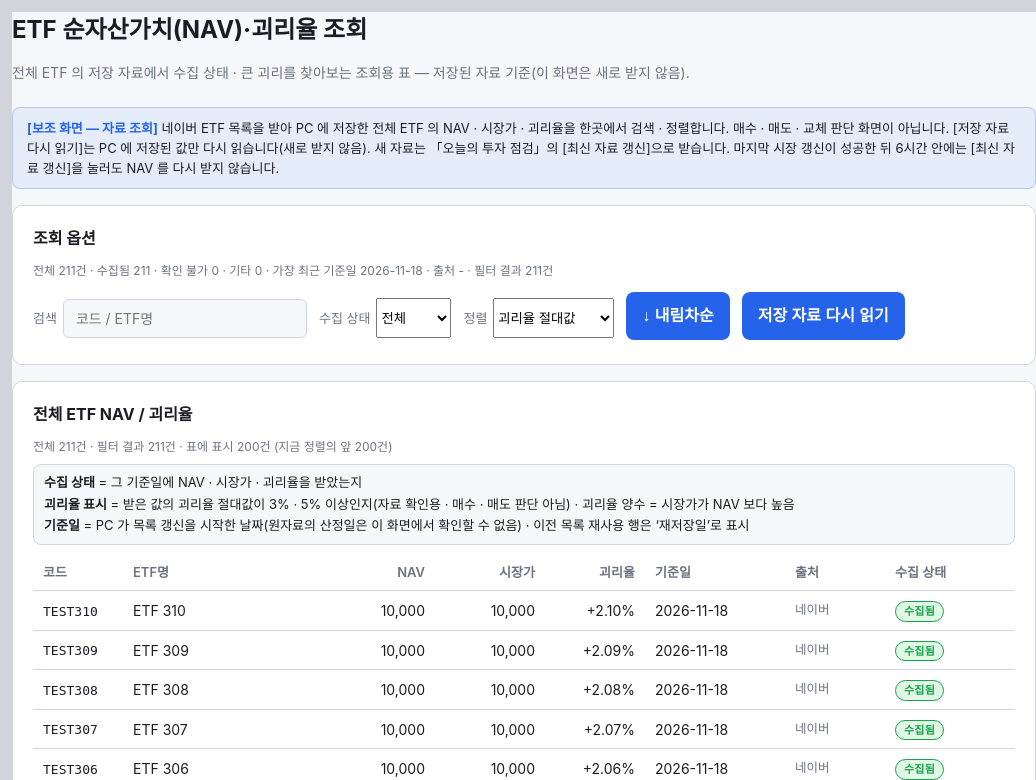
Test: POC6-34 — 저장 자료 다시 읽기 · 새 자료 경로 · 표시 범위 › 검색으로 좁힘 → 표에 표시 = 필터 결과 · 앞 200건 문구 · 표 아래 안내 없음 · 전체는 응답 건수 그대로
The image size is (1036, 780).
Type "TEST10" into the field with placeholder "코드 / ETF명".
click(185, 318); type("TEST10")  # box [63,299,307,338]
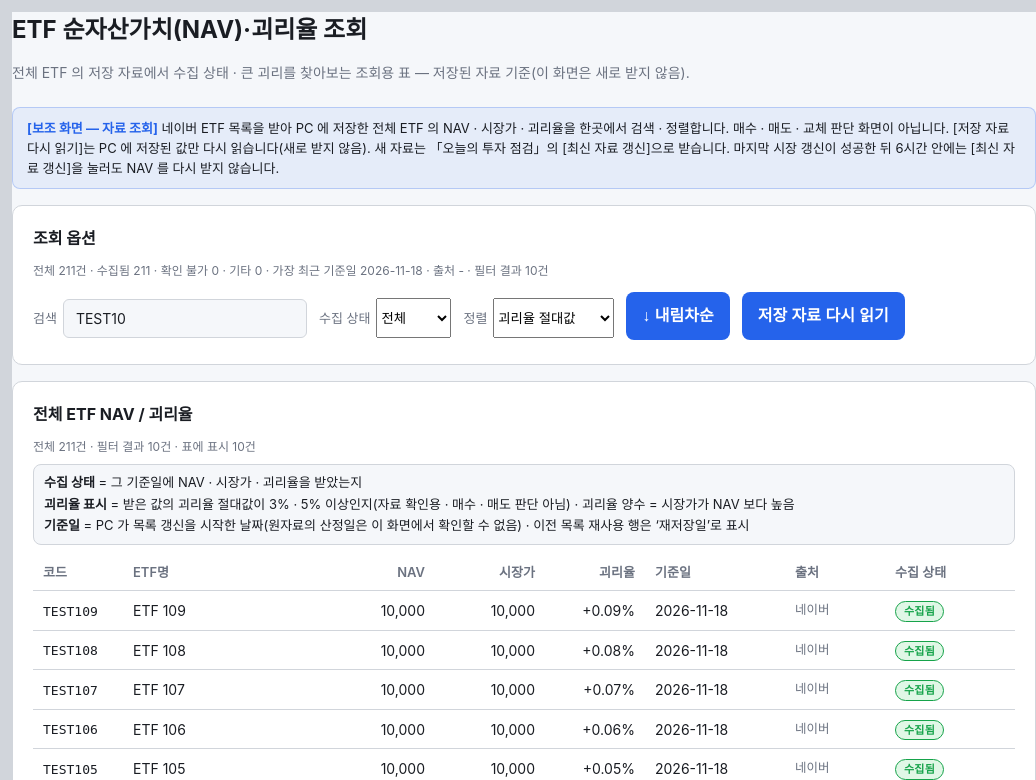
Result: the text with test id "ds-range" reads "전체 211건 · 필터 결과 10건 · 표에 표시 10건" at [33,439,256,454]
